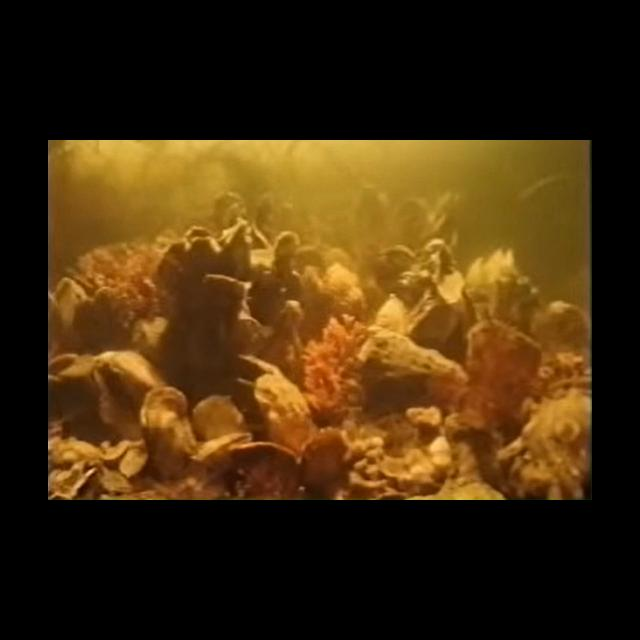Oyster-Closed: (464, 318, 544, 428), (90, 350, 167, 442), (360, 330, 470, 392), (138, 386, 198, 474), (252, 371, 316, 453), (529, 299, 591, 363), (470, 248, 518, 328), (227, 442, 299, 493), (198, 272, 248, 340), (404, 282, 454, 348), (298, 428, 348, 490), (191, 392, 243, 442), (438, 274, 478, 330), (192, 432, 254, 462), (374, 291, 406, 337), (160, 240, 192, 286), (270, 228, 300, 274), (185, 235, 223, 271), (276, 300, 302, 348), (218, 220, 246, 256), (184, 226, 216, 247)
